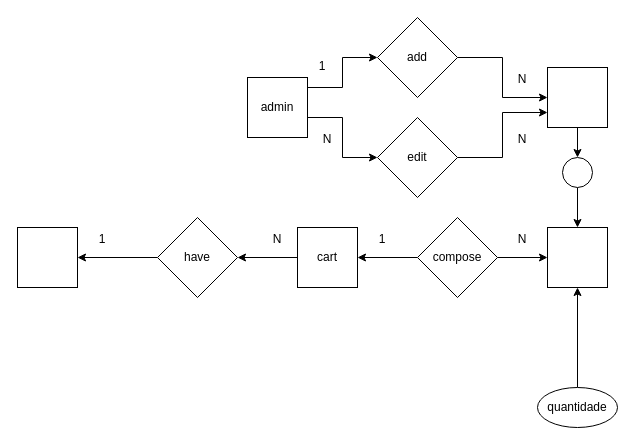
This 635x445 diagram has some shape labels left out. The centre of each missing label's shape, as x and y in pixels:
item: the point at 577,257
product: the point at 577,97
user: the point at 47,257
